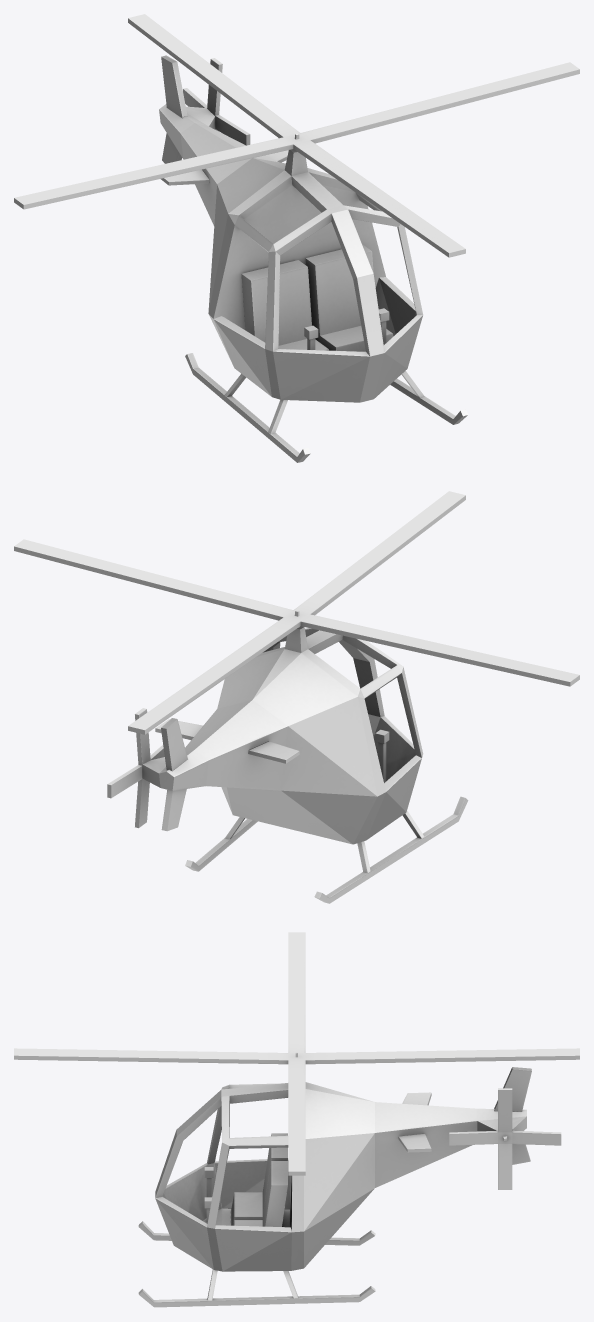
The model's file is heli.glb.
3 views of the same model, one above another, from view 1: azimuth 30°, elevation 25°; view 2: azimuth 150°, elevation 25°; view 3: azimuth 270°, elevation 25° (orthographic). The views are drawn at different scales.
Visible parts, largest first — view 1: Cube, Cube004_1, door_R, door_L, Cube002; view 2: Cube, Cube004_1, Cube002, door_R; view 3: Cube, Cube004_1, door_L, Cube002, door_R.
Boxes of the visible parts, x1=… form: Cube: x1=159, y1=55, x2=468, y2=462; Cube004_1: x1=14, y1=14, x2=579, y2=257; door_R: x1=213, y1=316, x2=271, y2=396; door_L: x1=375, y1=277, x2=415, y2=335; Cube002: x1=183, y1=58, x2=250, y2=145; Cube: x1=142, y1=610, x2=468, y2=903; Cube004_1: x1=14, y1=491, x2=579, y2=734; Cube002: x1=107, y1=708, x2=164, y2=828; door_R: x1=366, y1=755, x2=421, y2=839; Cube: x1=138, y1=1052, x2=531, y2=1307; Cube004_1: x1=14, y1=932, x2=579, y2=1175; door_L: x1=215, y1=1225, x2=291, y2=1271; Cube002: x1=449, y1=1088, x2=561, y2=1189; door_R: x1=214, y1=1158, x2=291, y2=1209.
Size of the model in its own units: 3.92 by 1.69 by 3.92.
Materials: 1 (1 with a texture image).
